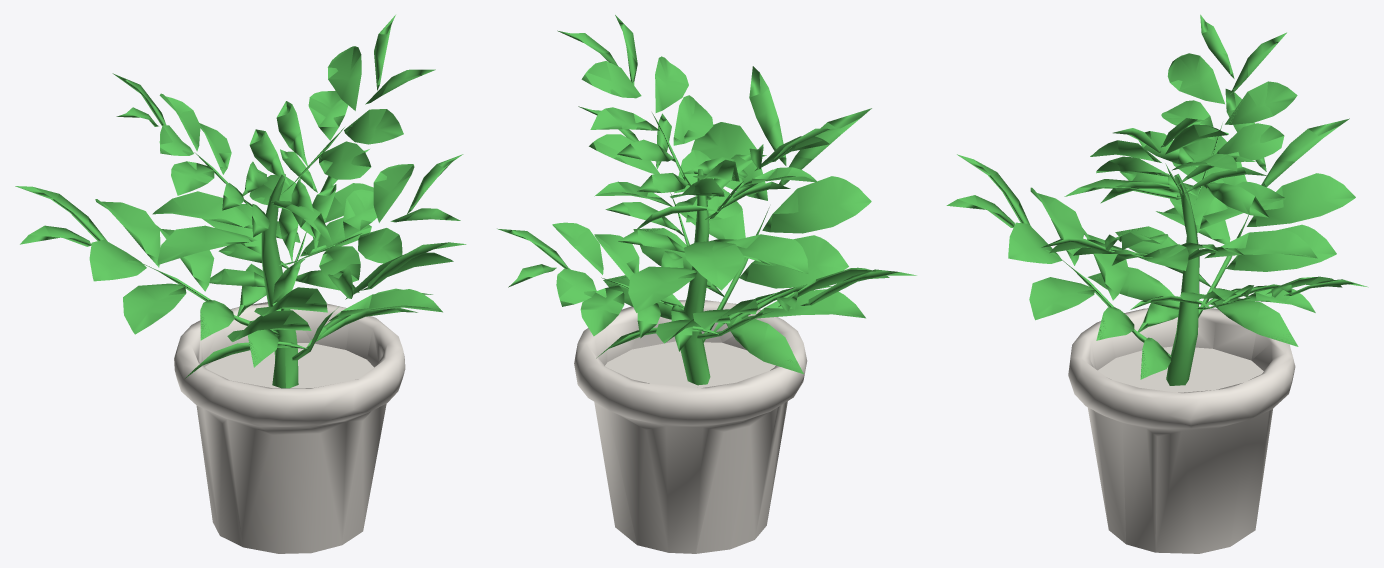
The model's file is plant.gltf.
The picture shows the model from 3 angles, left to right: view 1: azimuth 30°, elevation 25°; view 2: azimuth 150°, elevation 25°; view 3: azimuth 270°, elevation 25°; orthographic projection. The views are drawn at different scales.
Visible parts, largest first — view 1: POt1, Boss-Extrude1(1) (×11), Scale2[4] (×4), Scale2[3] (×4), Scale2[5] (×4), Boss-Extrude1(2) (×5), Scale2[2] (×3), Fillet2(3) (×4), Trunk, Scale2[8] (×3), Scale2[6] (×3), Scale2[9] (×2) (+2 smaller); view 2: POt1, Boss-Extrude1(1) (×11), Scale2[4] (×4), Scale2[2] (×4), Scale2[3] (×4), Scale2[5] (×4), Boss-Extrude1(2) (×3), Fillet2(3) (×3), Trunk, Scale2[9] (×3), Scale2[8] (×2), Scale2[7] (×2); view 3: POt1, Boss-Extrude1(1) (×11), Boss-Extrude1(2) (×6), Fillet2(3) (×4), Trunk, Scale2[2] (×4), Scale2[4] (×2), Scale2[5] (×2), Scale2[3] (×2), Scale2[10] (×2), Scale2[9], Scale2[7] (+2 smaller).
Boxes of the visible parts, x1,y1,x2,y2 form: POt1: [174, 302, 405, 553]; Boss-Extrude1(1) (×11): [89, 191, 453, 341]; Scale2[4] (×4): [159, 46, 414, 222]; Scale2[3] (×4): [199, 123, 371, 282]; Scale2[5] (×4): [159, 93, 403, 263]; Boss-Extrude1(2) (×5): [185, 263, 417, 378]; Scale2[2] (×3): [171, 90, 377, 238]; Fillet2(3) (×4): [15, 186, 466, 290]; Trunk: [261, 174, 298, 388]; Scale2[8] (×3): [209, 129, 298, 287]; Scale2[6] (×3): [280, 15, 463, 213]; Scale2[9] (×2): [276, 101, 336, 251]; POt1: [574, 300, 807, 553]; Boss-Extrude1(1) (×11): [628, 122, 889, 343]; Scale2[4] (×4): [556, 61, 829, 306]; Scale2[2] (×4): [580, 107, 817, 336]; Scale2[3] (×4): [594, 95, 742, 279]; Scale2[5] (×4): [552, 56, 739, 274]; Boss-Extrude1(2) (×3): [603, 228, 803, 374]; Fillet2(3) (×3): [749, 66, 916, 305]; Trunk: [680, 169, 710, 385]; Scale2[9] (×3): [605, 139, 683, 338]; Scale2[8] (×2): [617, 173, 688, 252]; Scale2[7] (×2): [497, 15, 637, 269]; POt1: [1068, 306, 1295, 553]; Boss-Extrude1(1) (×11): [1008, 136, 1355, 320]; Boss-Extrude1(2) (×6): [1088, 226, 1298, 379]; Fillet2(3) (×4): [946, 118, 1349, 227]; Trunk: [1166, 174, 1199, 385]; Scale2[2] (×4): [1141, 100, 1315, 312]; Scale2[4] (×2): [1165, 53, 1228, 154]; Scale2[5] (×2): [1090, 81, 1297, 162]; Scale2[3] (×2): [1096, 123, 1284, 176]; Scale2[10] (×2): [1100, 182, 1268, 217]; Scale2[9]: [1138, 131, 1204, 172]; Scale2[7]: [1230, 32, 1286, 94].
Bounding box in the file's own units: 0.2331 × 0.2666 × 0.2224.
